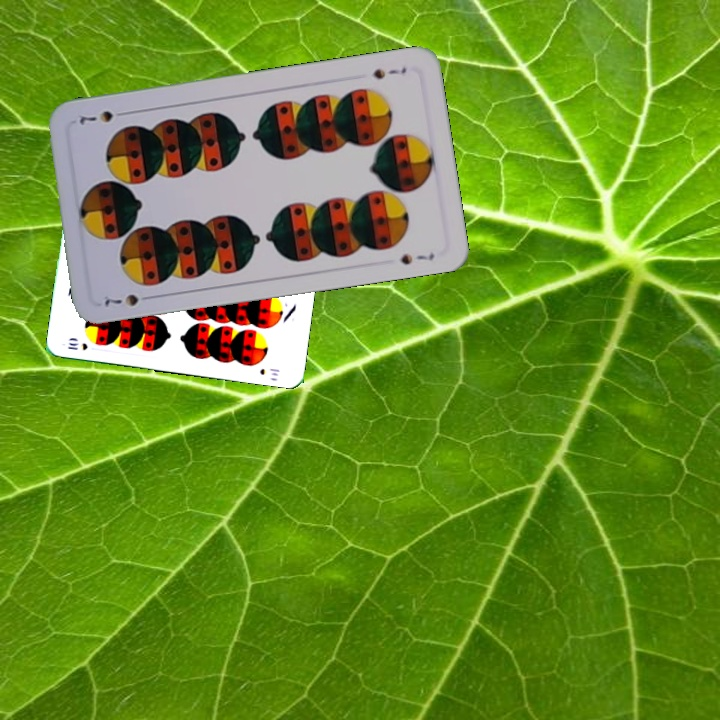S10: (64, 339, 90, 353)
S7: (99, 290, 156, 310), (369, 63, 409, 82)
